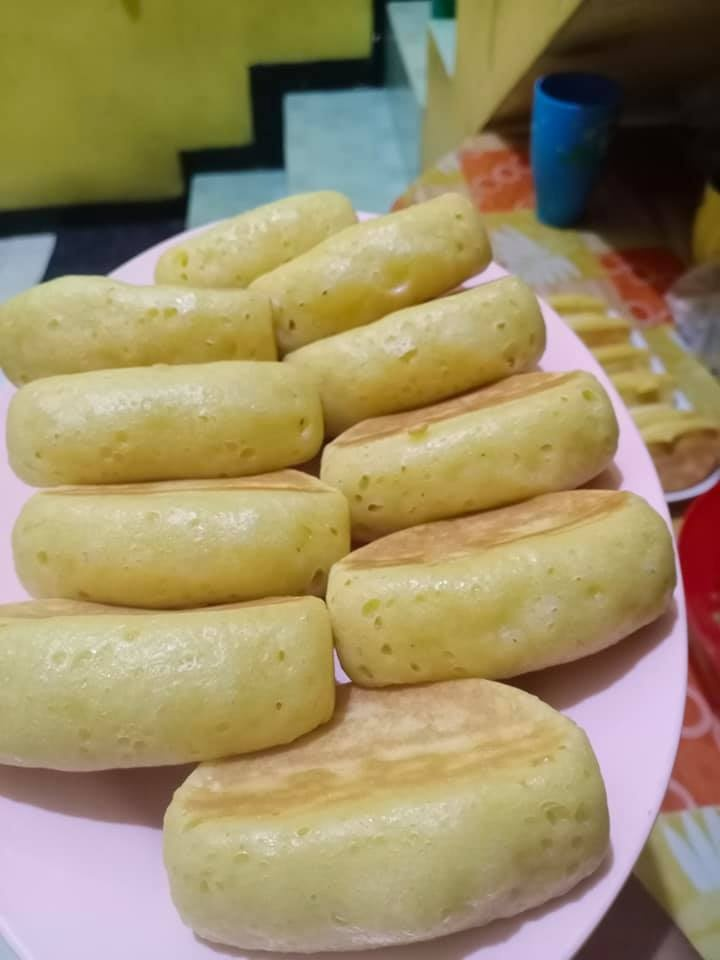pukis: (84, 717, 668, 960)
